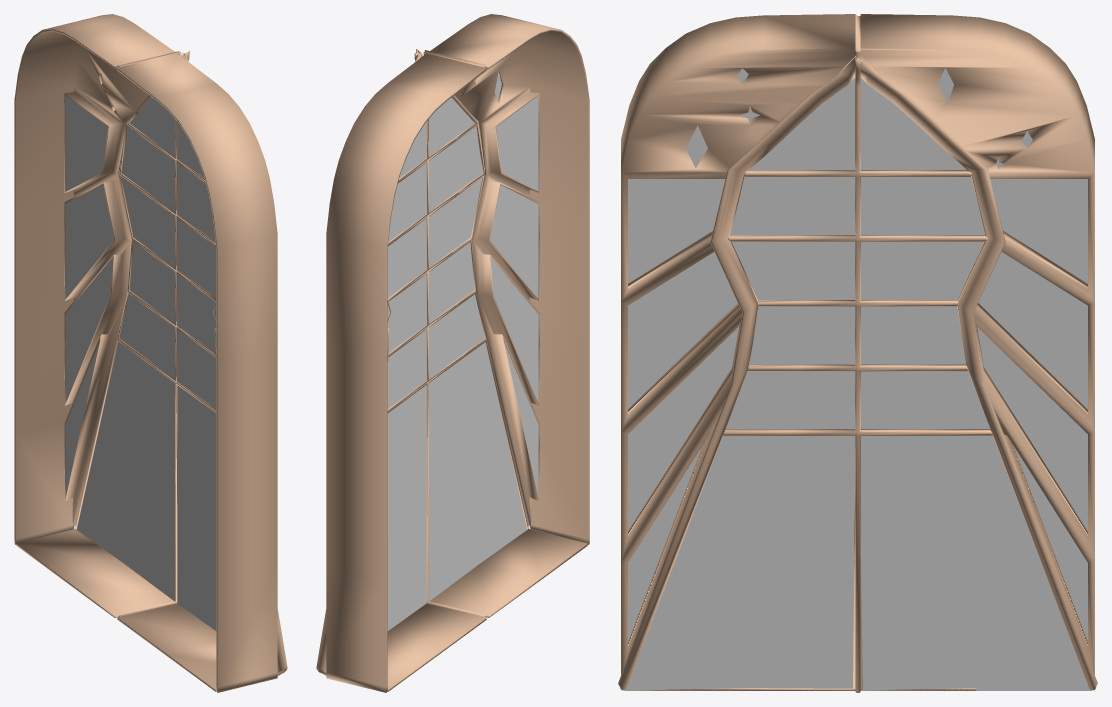
File: SM_Puerta_Principal.fbx
3 views of the same model, side by side, from view 1: azimuth 30°, elevation 25°; view 2: azimuth 150°, elevation 25°; view 3: azimuth 270°, elevation 25° (orthographic). The views are drawn at different scales.
Visible parts, largest first — view 1: Cube, Cube.003, Cube.001; view 2: Cube, Cube.003, Cube.001; view 3: Cube.003, Cube, Cube.001, Cube.002.
Boxes of the visible parts, left/top/right/bottom form: Cube: left=14, top=14, right=287, bottom=692; Cube.003: left=76, top=97, right=216, bottom=630; Cube.001: left=65, top=96, right=216, bottom=498; Cube: left=316, top=14, right=589, bottom=692; Cube.003: left=387, top=97, right=527, bottom=630; Cube.001: left=387, top=96, right=538, bottom=498; Cube.003: left=626, top=78, right=1089, bottom=690; Cube: left=618, top=14, right=1097, bottom=692; Cube.001: left=628, top=179, right=1087, bottom=641; Cube.002: left=686, top=68, right=1032, bottom=168.
Bounding box in the file's own units: 30.29 × 219 × 148.
